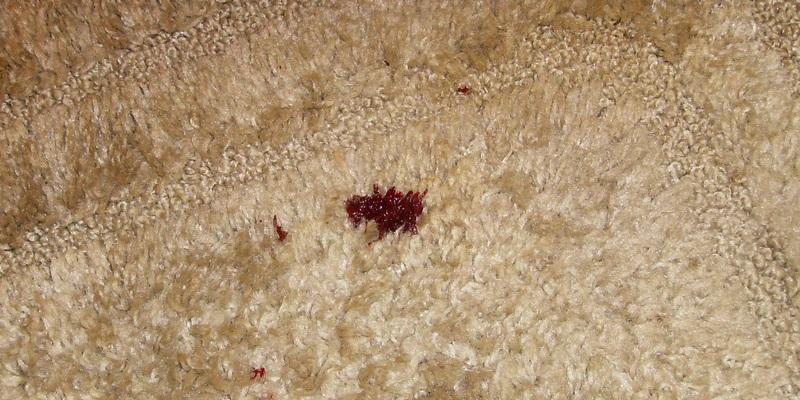Fire: (345, 183, 428, 245), (272, 214, 289, 240), (249, 367, 265, 380), (456, 85, 470, 93)
